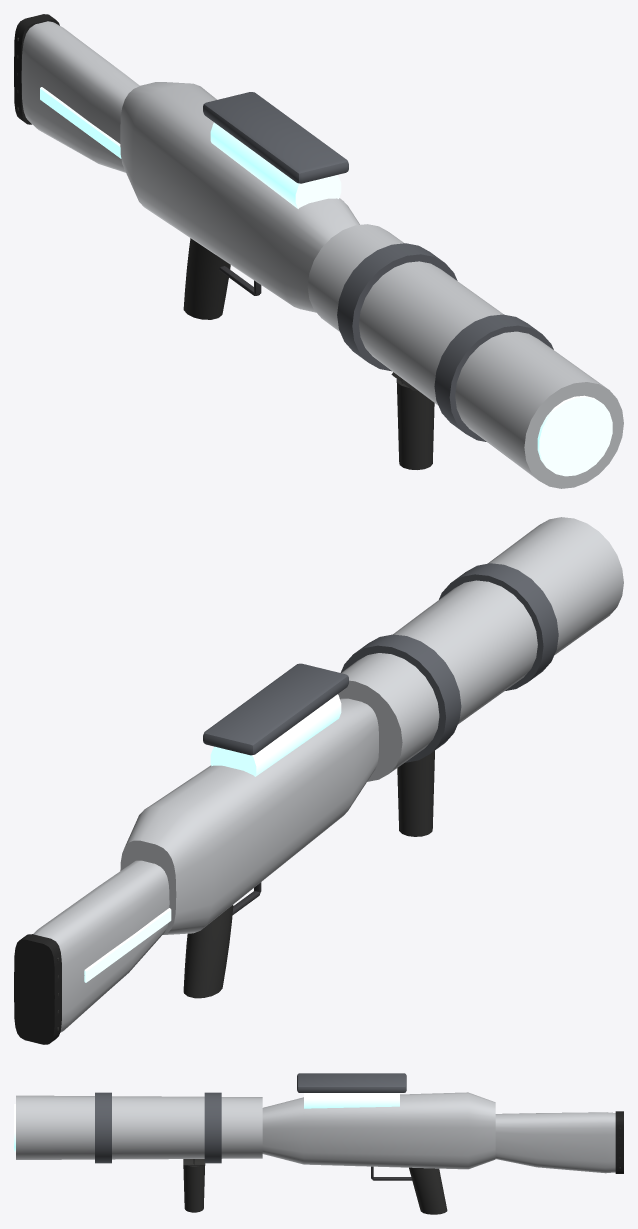
The model's file is splasher.glb.
The picture shows the model from 3 angles, top to bottom: view 1: azimuth 30°, elevation 25°; view 2: azimuth 150°, elevation 25°; view 3: azimuth 270°, elevation 25°; orthographic projection. The views are drawn at different scales.
Parts seen in each view (by area): view 1: Body; view 2: Body; view 3: Body.
Boxes of the visible parts, x1,y1,x2,y2 form: Body: [14, 14, 623, 488]; Body: [14, 517, 623, 1044]; Body: [14, 1073, 623, 1214].
Size of the model in its own units: 0.1035 by 0.2109 by 0.89.
